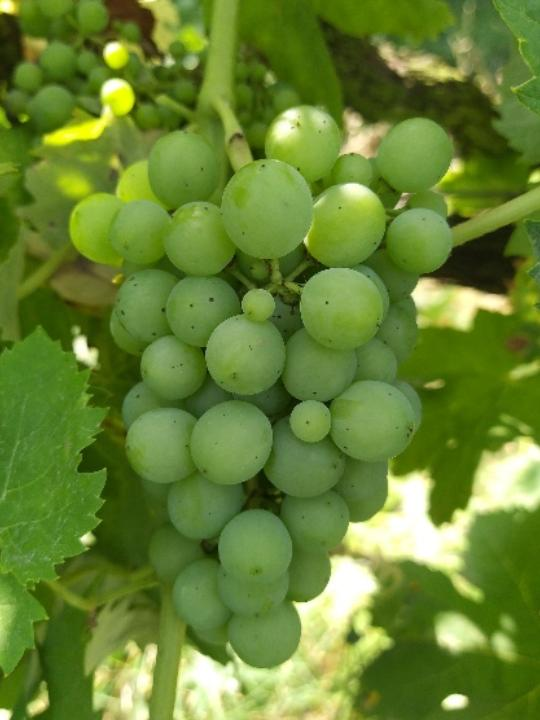grape: (69, 100, 453, 672)
